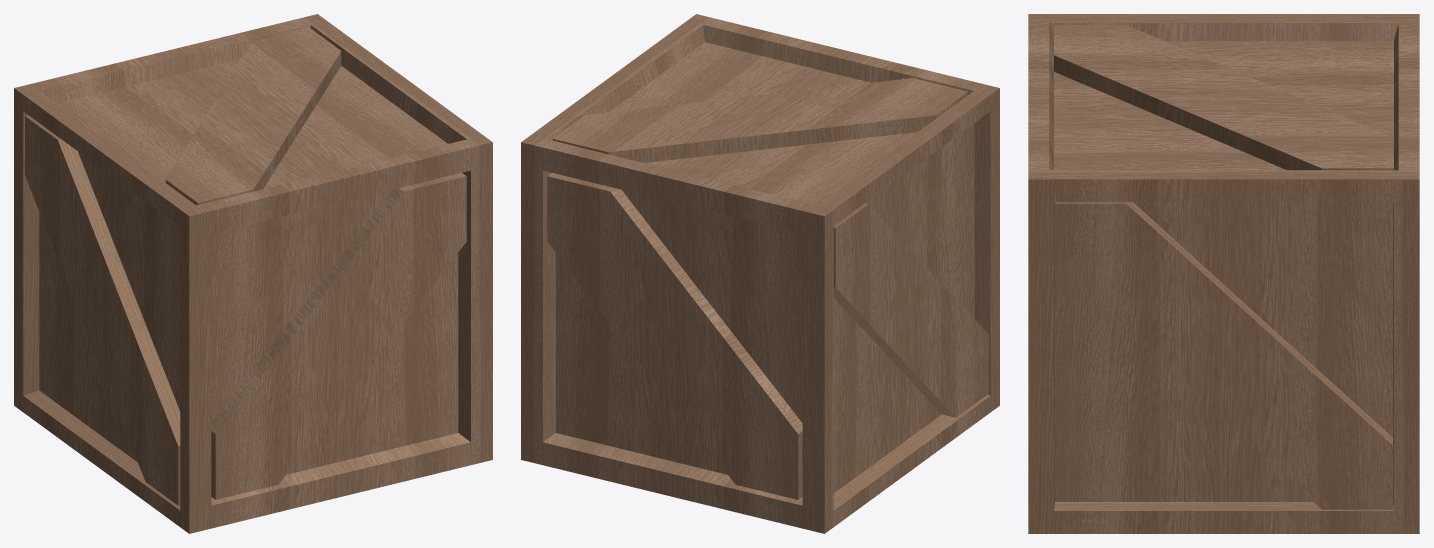
Rendered from SimpleCrate.obj.
3 views of the same model, side by side, from view 1: azimuth 30°, elevation 25°; view 2: azimuth 150°, elevation 25°; view 3: azimuth 270°, elevation 25° (orthographic). The views are drawn at different scales.
Visible parts, largest first — view 1: Cube; view 2: Cube; view 3: Cube.
Part boxes in pixels (left/top/right/bottom): Cube: left=14, top=14, right=492, bottom=533; Cube: left=521, top=14, right=999, bottom=533; Cube: left=1028, top=14, right=1419, bottom=533.
Bounding box in the file's own units: 2 × 2 × 2.
